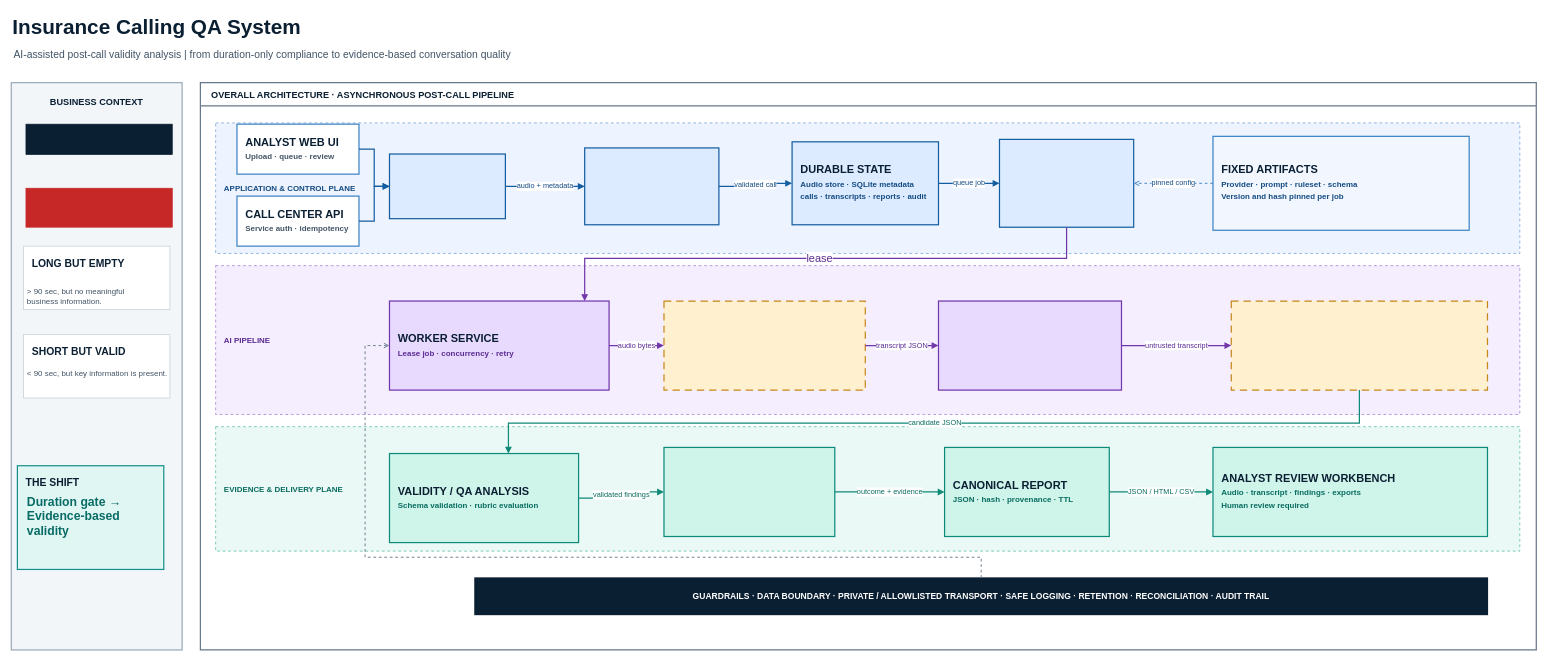
The diagram is 1548 pixels wide and 661 high, and some of its shapes have lost their labels. Here are the shapes that lost their labels. From the top down, the centre of each, then its label:
At point (98, 139): "INSURANCE CALLBACKS".
At point (447, 186): "FASTIFY API Auth · roles · CSRF · audit".
At point (651, 186): "INGESTION SERVICE Validate · probe · hash · reserve".
At point (1066, 183): "DB-BACKED QUEUE Lease · heartbeat · retry · recovery".
At point (98, 207): "HARD KPI: CALL DURATION > 90 SEC".
At point (764, 345): "ASR gemini-3.5-flash".
At point (1030, 345): "CANONICAL TRANSCRIPT Normalized text + segments Speaker attribution: unavailable".
At point (1359, 345): "INTERNAL LLM Prompt + ruleset + JSON schema Structured candidate output".
At point (749, 492): "EVIDENCE POLICY Exact quote · segment match · outcome".
